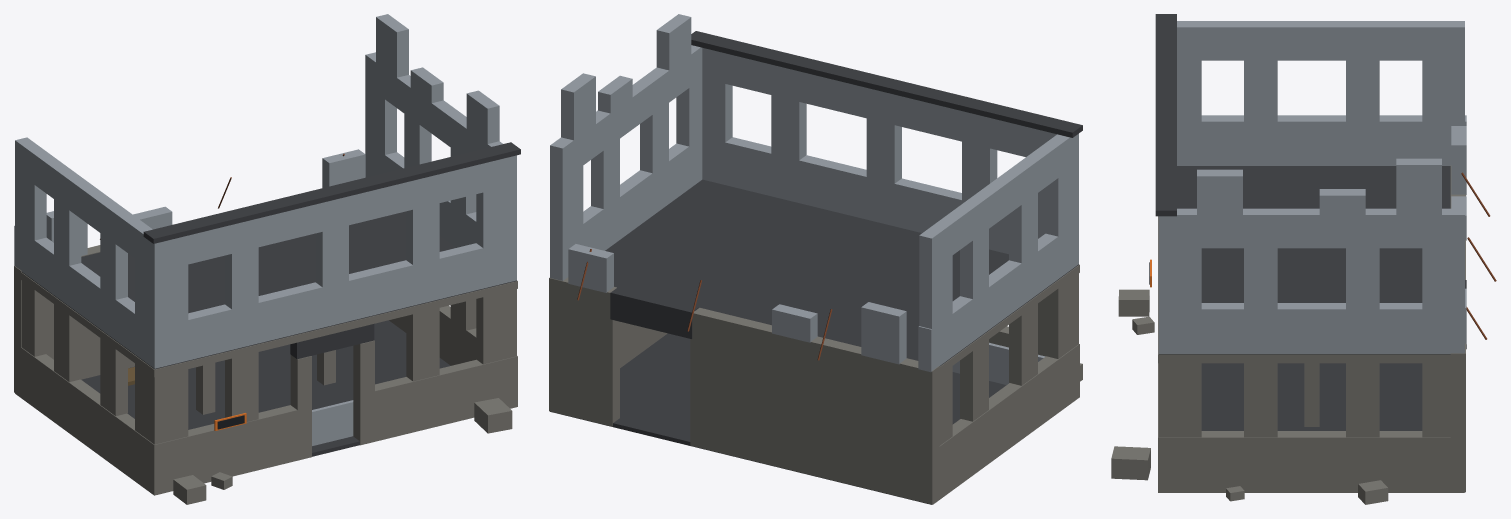
Rendered from env_ruin_building.fbx.
The picture shows the model from 3 angles, left to right: view 1: azimuth 30°, elevation 25°; view 2: azimuth 150°, elevation 25°; view 3: azimuth 270°, elevation 25°; orthographic projection. The views are drawn at different scales.
Parts seen in each view (by area): view 1: env_ruin_building; view 2: env_ruin_building; view 3: env_ruin_building.
Part boxes in pixels (x1,y1,x2,y2): env_ruin_building: (14, 14, 520, 504); env_ruin_building: (549, 14, 1082, 504); env_ruin_building: (1111, 14, 1496, 504).
Bounding box in the file's own units: 3209 × 2360 × 2515.
